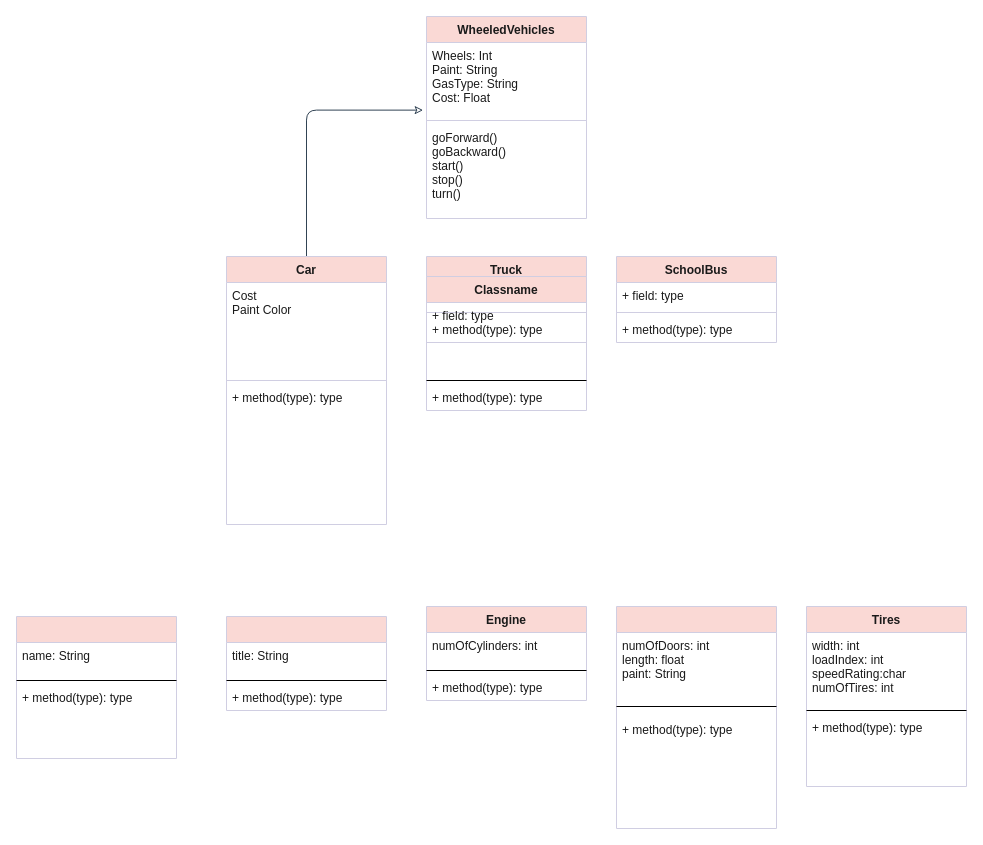
Image size: 983x845. Some labels were removed from this diagram. Here are the shapes that lost their labels. From the top down, the box of each, then its label:
(226, 616, 386, 710): Make
(16, 616, 176, 758): Model
(616, 606, 776, 828): Body
